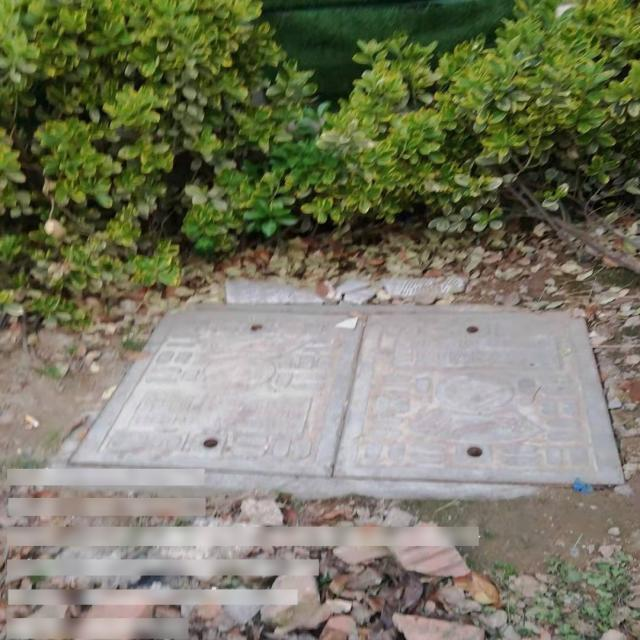Good: (66, 304, 626, 484)
